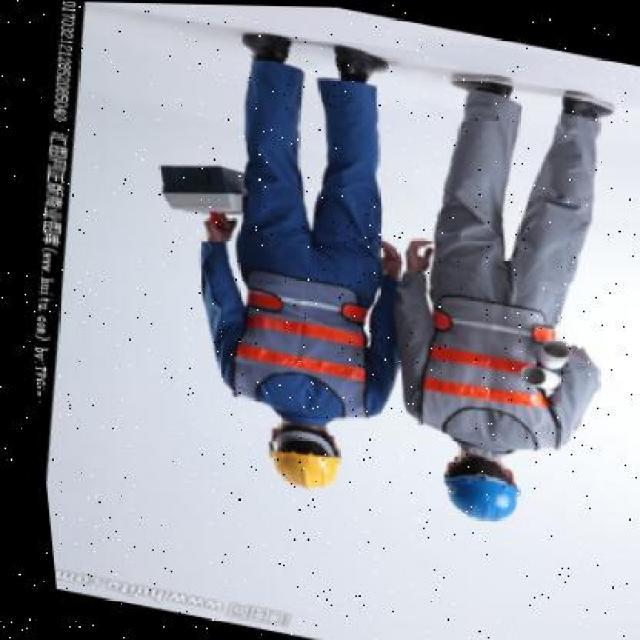helmet: (433, 469, 514, 523), (253, 439, 335, 489)
vest: (376, 273, 587, 461), (193, 254, 393, 422)
